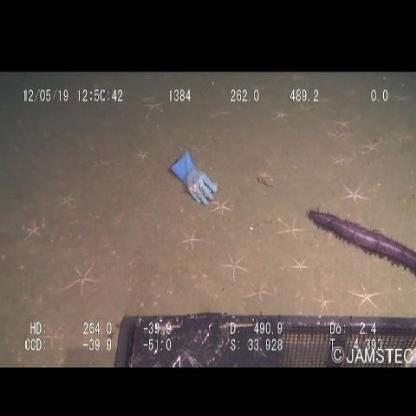Bio: (305, 200, 416, 277)
Rov: (110, 310, 416, 368)
Rác: (165, 148, 220, 214)
